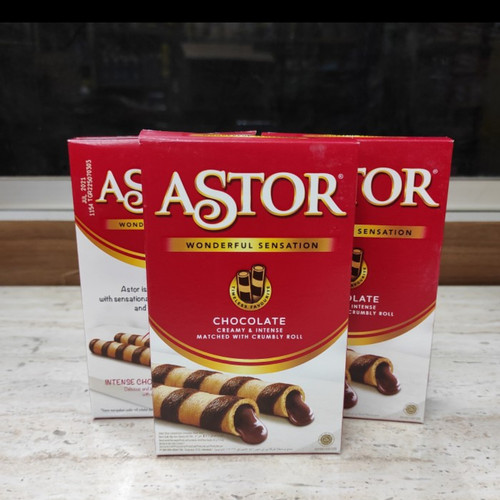Astor Chocolate (40g): (134, 123, 354, 471), (69, 122, 266, 434), (249, 130, 452, 424)
